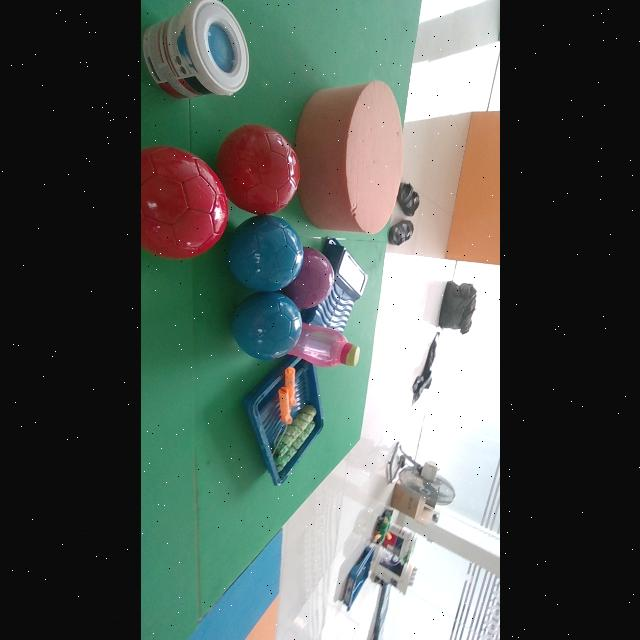B: (228, 215, 304, 292), (231, 292, 302, 359)
P: (282, 247, 334, 310)
R: (141, 146, 228, 259), (216, 125, 300, 214)
